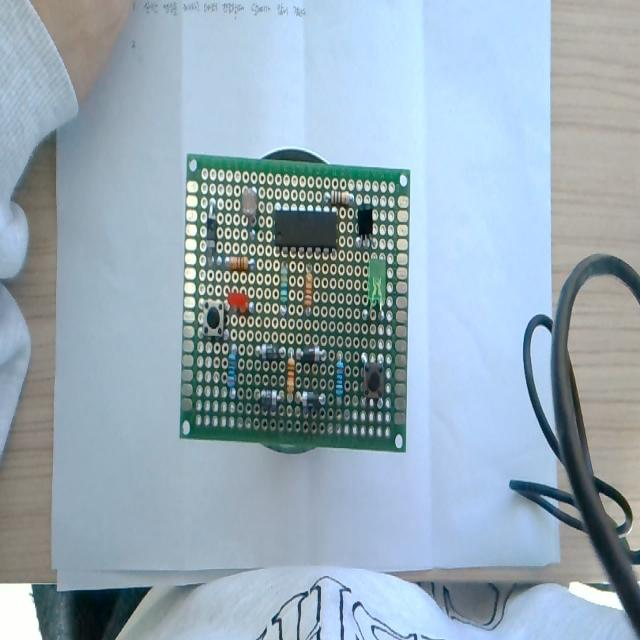IC: (267, 203, 343, 257)
cds: (239, 182, 263, 236)
diode: (296, 383, 329, 413), (253, 383, 285, 413), (205, 196, 219, 263), (254, 337, 286, 365), (297, 337, 327, 363)
led: (366, 256, 392, 329), (223, 284, 261, 320)
resistor: (275, 259, 293, 325), (226, 339, 242, 404), (220, 247, 254, 276), (322, 180, 355, 206), (300, 263, 314, 324), (333, 351, 347, 407), (288, 347, 298, 413)
switch: (358, 359, 392, 409), (201, 293, 224, 343)
transistor: (353, 202, 379, 252)
